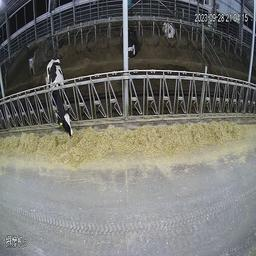cow: (41, 62, 69, 133), (128, 25, 142, 57), (158, 19, 176, 40)
